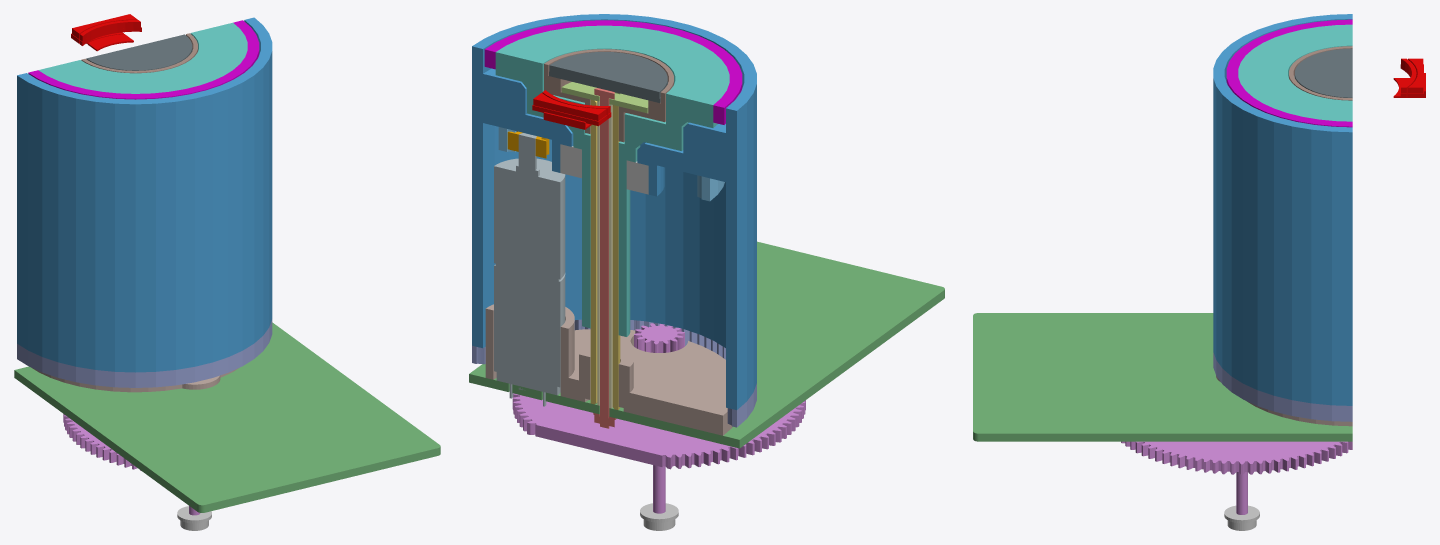
Rendered from knob-stack-v0.9-half-section.glb.
3 views of the same model, side by side, from view 1: azimuth 30°, elevation 25°; view 2: azimuth 150°, elevation 25°; view 3: azimuth 270°, elevation 25° (orthographic). The views are drawn at different scales.
Visible parts, largest first — view 1: knob_body__cap_skirt_hub_rim, PCB, control_dial, bottom_internal_ring, TFT_glass, magnet_placeholder, encoder_big_gear, base_cradle, encoder_bearing_2__back_panel, screen_holder, CLASH_screen_holder___TFT_glass; view 2: knob_body__cap_skirt_hub_rim, PCB, motor, control_dial, base_cradle, encoder_big_gear, brass_tube, TFT_glass, rod_M1_6__VBUS_DATA, magnet_placeholder, rod_sleeve, screen_holder (+9 smaller); view 3: knob_body__cap_skirt_hub_rim, PCB, control_dial, encoder_big_gear, TFT_glass, bottom_internal_ring, magnet_placeholder, encoder_bearing_2__back_panel, screen_holder.
Part boxes in pixels (<box>): knob_body__cap_skirt_hub_rim: <box>17,17,272,372</box>; PCB: <box>14,322,440,512</box>; control_dial: <box>38,22,247,93</box>; bottom_internal_ring: <box>17,319,272,387</box>; TFT_glass: <box>86,34,192,70</box>; magnet_placeholder: <box>28,20,259,99</box>; encoder_big_gear: <box>63,414,140,470</box>; base_cradle: <box>31,367,238,392</box>; encoder_bearing_2__back_panel: <box>177,506,211,530</box>; screen_holder: <box>81,33,197,73</box>; CLASH_screen_holder___TFT_glass: <box>80,20,140,41</box>; knob_body__cap_skirt_hub_rim: <box>472,14,756,410</box>; PCB: <box>469,241,944,448</box>; motor: <box>494,133,565,406</box>; control_dial: <box>495,25,729,336</box>; base_cradle: <box>485,304,732,435</box>; encoder_big_gear: <box>512,393,805,469</box>; brass_tube: <box>590,99,620,409</box>; TFT_glass: <box>549,52,667,98</box>; rod_M1_6__VBUS_DATA: <box>600,89,609,428</box>; magnet_placeholder: <box>484,20,742,124</box>; rod_sleeve: <box>597,101,612,408</box>; screen_holder: <box>544,49,673,142</box>; knob_body__cap_skirt_hub_rim: <box>1213,14,1352,405</box>; PCB: <box>973,313,1352,441</box>; control_dial: <box>1238,24,1352,121</box>; encoder_big_gear: <box>1121,441,1352,474</box>; TFT_glass: <box>1295,48,1352,97</box>; bottom_internal_ring: <box>1213,352,1352,421</box>; magnet_placeholder: <box>1226,19,1352,127</box>; encoder_bearing_2__back_panel: <box>1224,505,1259,530</box>; screen_holder: <box>1289,46,1352,100</box>.
Bounding box in the file's own units: 0.049 × 0.085 × 0.0776.
